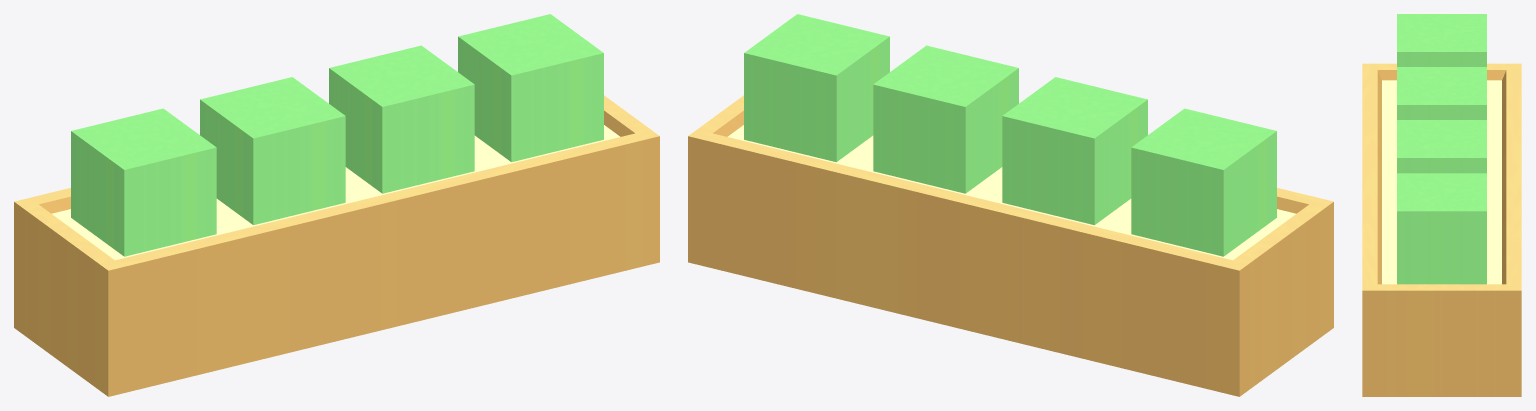
File: trees.004.glb
3 renders of one model, left to right at view 1: azimuth 30°, elevation 25°; view 2: azimuth 150°, elevation 25°; view 3: azimuth 270°, elevation 25°, orthographic. The views are drawn at different scales.
Visible parts, largest first — view 1: trees.004(Clone); view 2: trees.004(Clone); view 3: trees.004(Clone).
Part boxes in pixels (x1,y1,x2,y2): trees.004(Clone): (14,14,659,396); trees.004(Clone): (688,14,1333,396); trees.004(Clone): (1362,14,1521,396).
Bounding box in the file's own units: 2 × 0.7019 × 0.5915.
1 material, 1 textured.
